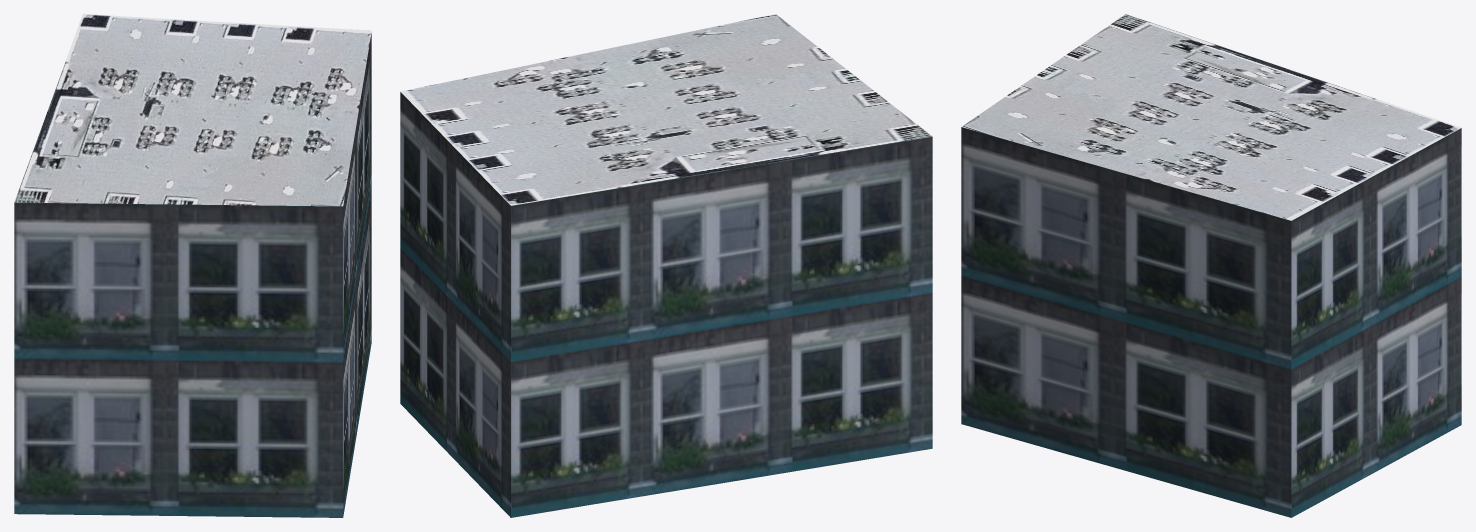
Rendered from ResTex__3725.fbx.
The picture shows the model from 3 angles, left to right: view 1: azimuth 30°, elevation 25°; view 2: azimuth 150°, elevation 25°; view 3: azimuth 270°, elevation 25°; orthographic projection. The views are drawn at different scales.
Visible parts, largest first — view 1: CityEngineMaterial_11_m, CityEngineMaterial_m; view 2: CityEngineMaterial_11_m, CityEngineMaterial_m; view 3: CityEngineMaterial_11_m, CityEngineMaterial_m.
Boxes of the visible parts, <box> form: CityEngineMaterial_11_m: <box>14,33,371,517</box>; CityEngineMaterial_m: <box>14,14,371,206</box>; CityEngineMaterial_11_m: <box>400,92,932,517</box>; CityEngineMaterial_m: <box>401,14,932,205</box>; CityEngineMaterial_11_m: <box>961,127,1461,517</box>; CityEngineMaterial_m: <box>962,14,1460,220</box>.
Size of the model in its own units: 8.96 by 6 by 9.16.
Materials: 2 (2 with a texture image).
